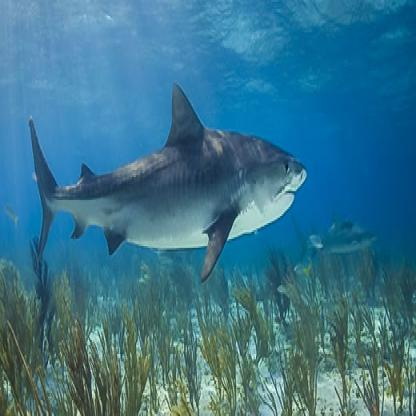shark: (22, 77, 313, 281)
